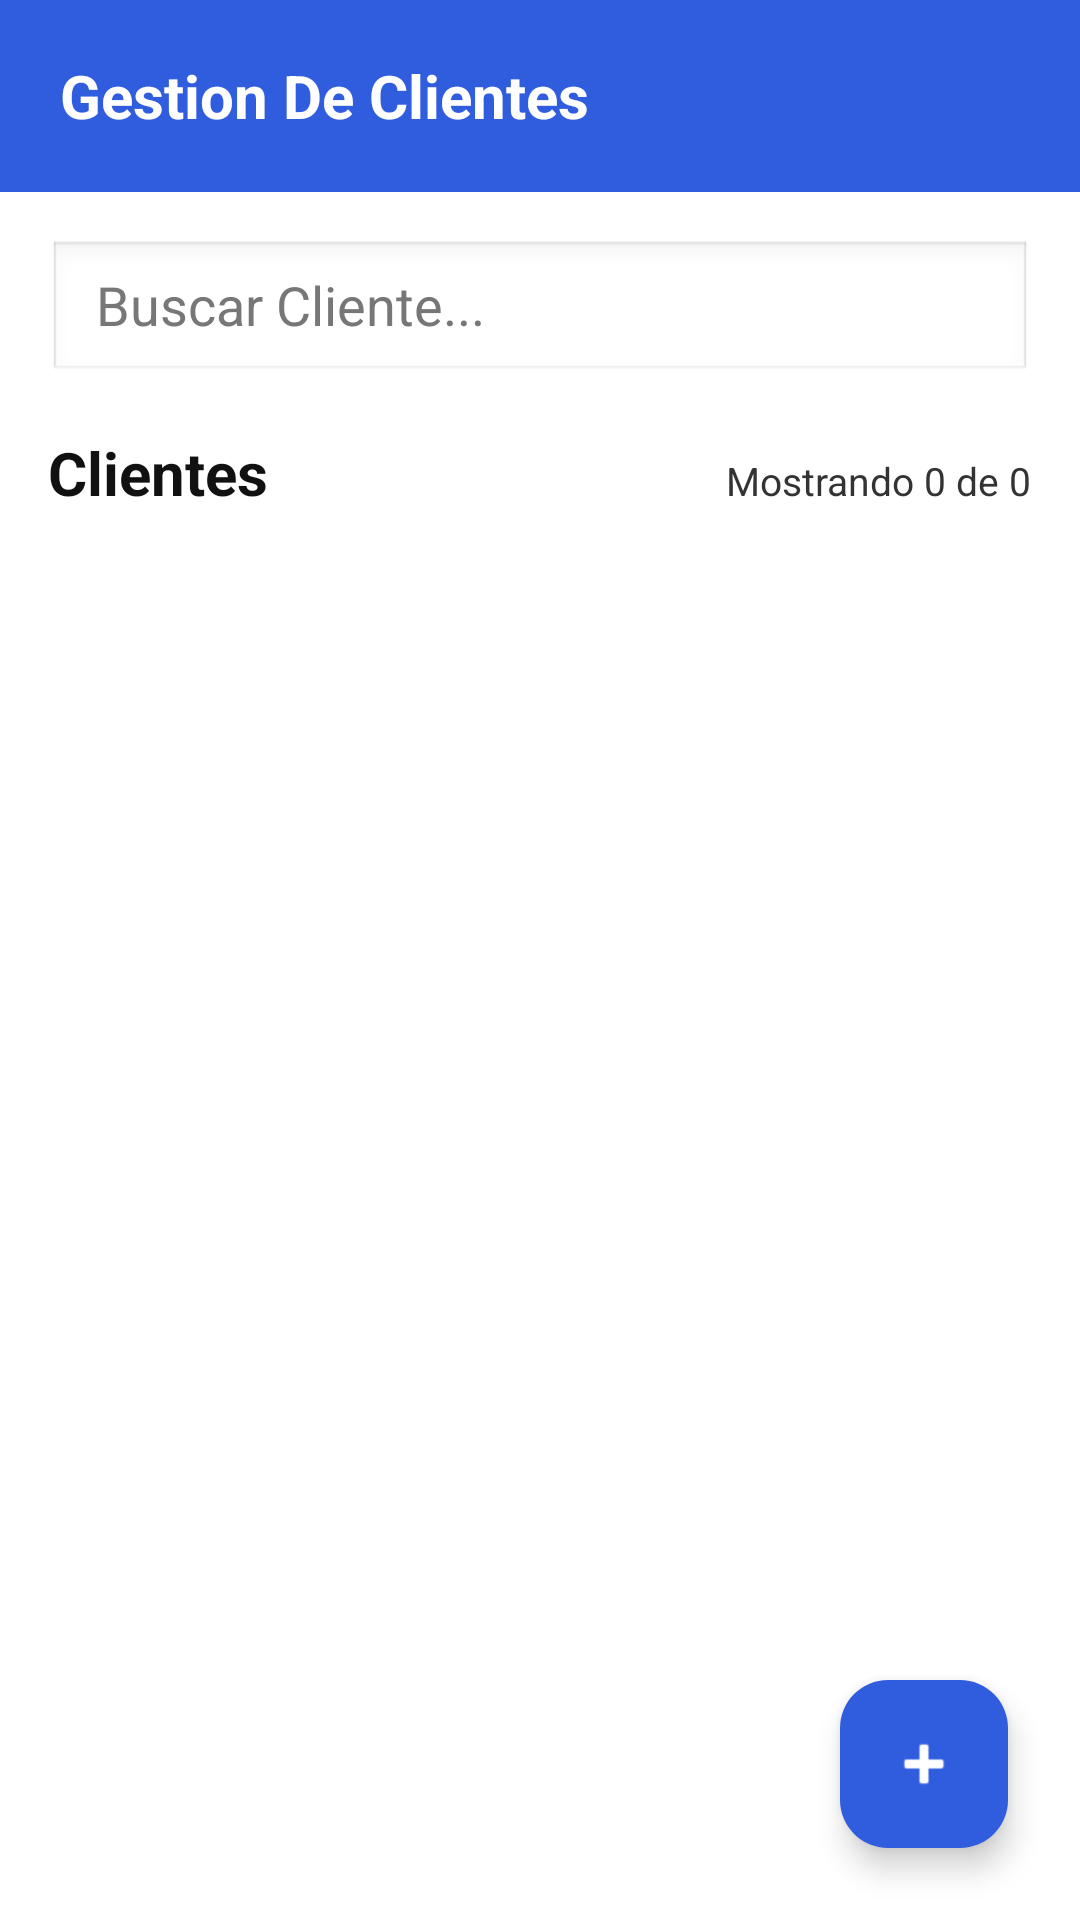

Screen size 1080 x 1920. Icon name, then its center in pixels as (x=x, y=y):
Agregar usuario: (x=924, y=1764)
